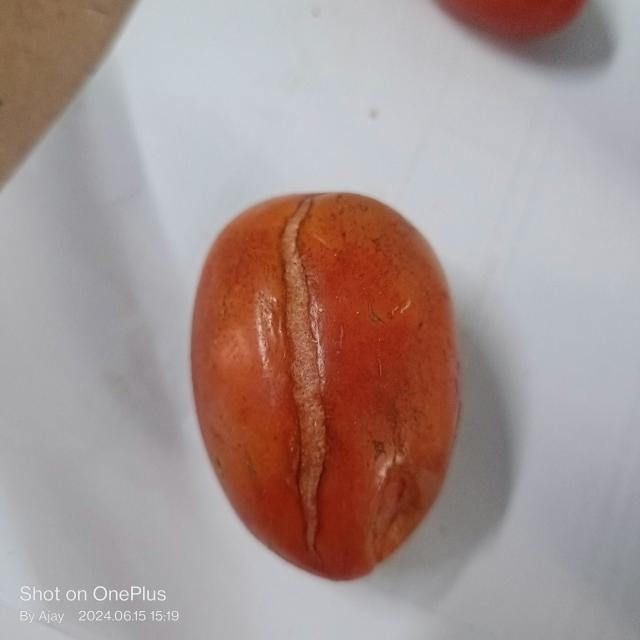tomato_cracking: (272, 190, 332, 560)
